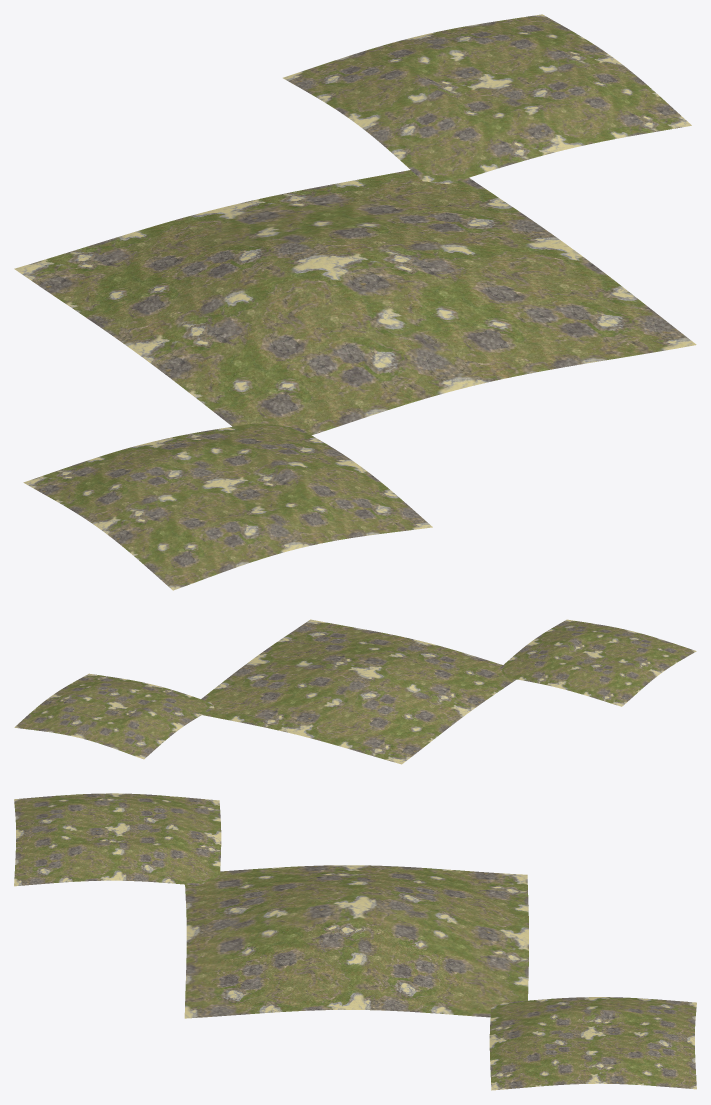
File: islands.fbx
3 views of the same model, one above another, from view 1: azimuth 30°, elevation 25°; view 2: azimuth 150°, elevation 25°; view 3: azimuth 270°, elevation 25° (orthographic). The views are drawn at different scales.
Parts seen in each view (by area): view 1: MainIsland, Base2, Base1; view 2: MainIsland, Base1, Base2; view 3: MainIsland, Base2, Base1.
Part boxes in pixels (<box>): MainIsland: <box>14,170,696,435</box>; Base2: <box>283,14,691,183</box>; Base1: <box>23,423,432,590</box>; MainIsland: <box>201,619,516,764</box>; Base1: <box>500,619,696,706</box>; Base2: <box>14,673,214,759</box>; MainIsland: <box>184,865,528,1018</box>; Base2: <box>489,997,696,1090</box>; Base1: <box>14,793,221,886</box>.
Size of the model in its own units: 20023 by 1073 by 19906.
